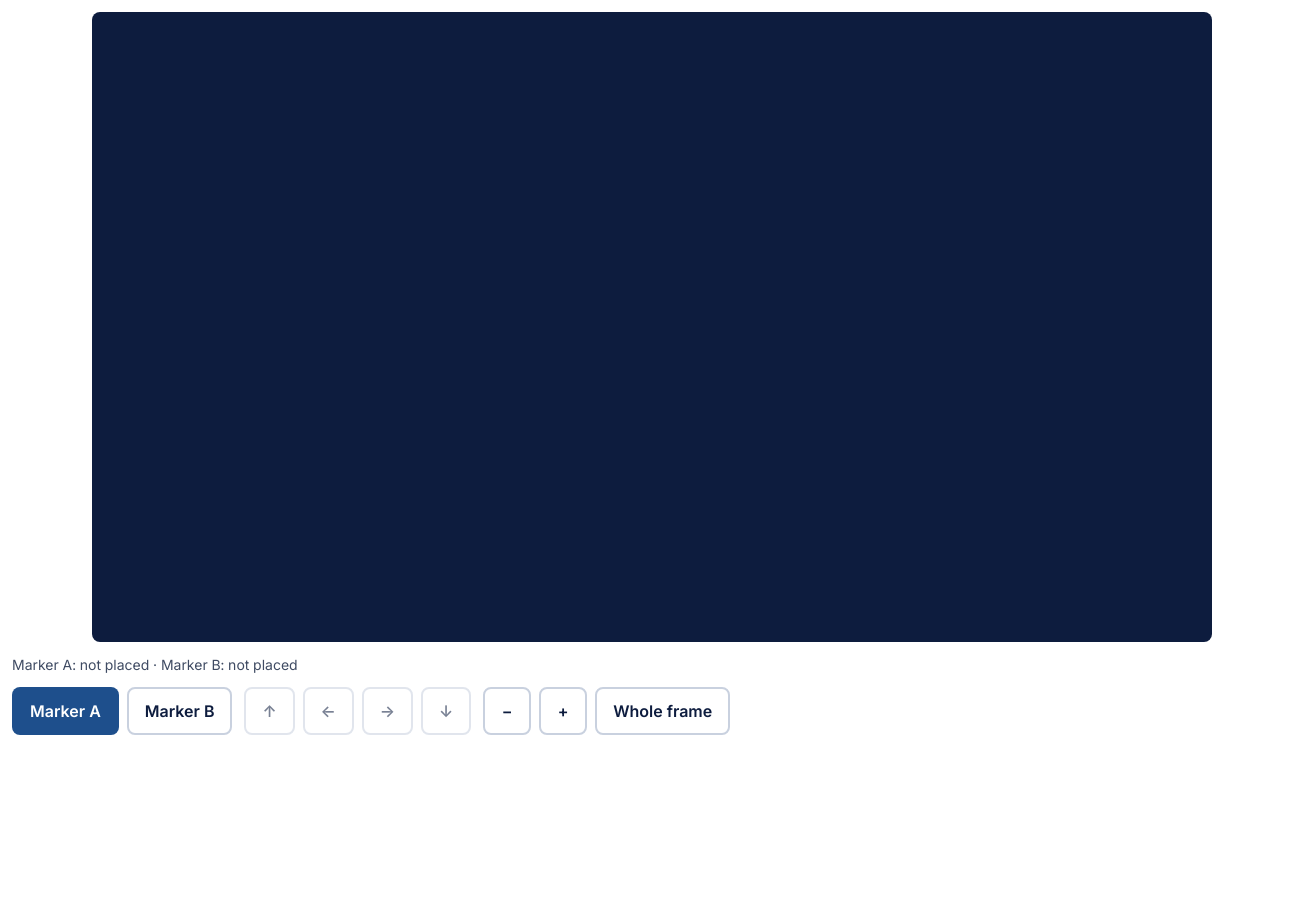
Scenario: CalibrationOverlay › turns taps on the frame into marker positions in frame pixels
Expected: the text "Marker A: not placed · Marker B: not placed" is shown, [12,656,298,673]
Press the mouse on the drawing named "Calibration frame": [652, 327] box [92,12,1212,642]
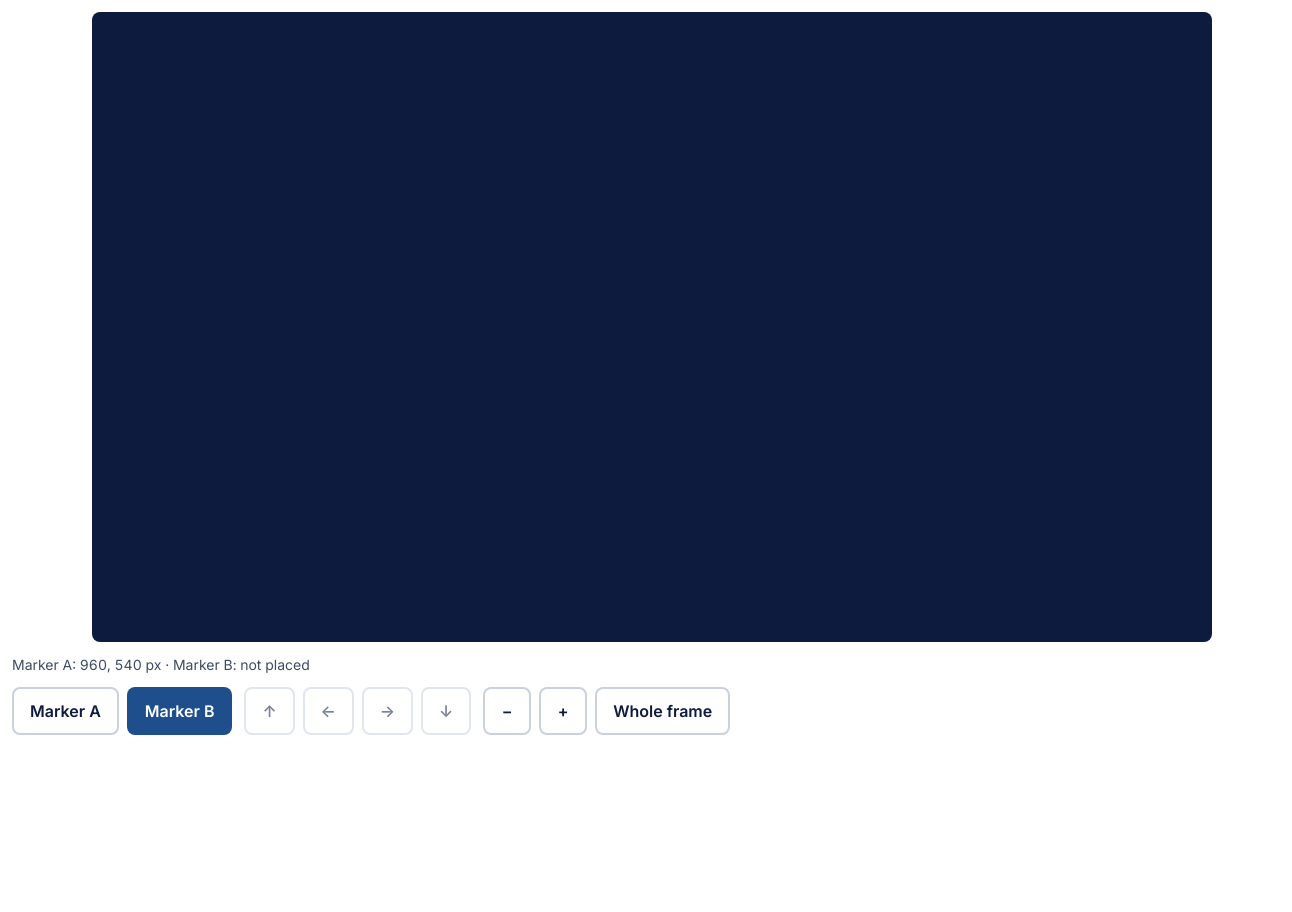
Now the text "Marker A: 960, 540 px · Marker B: not placed" is shown, box [12,656,310,673]
Press the mouse on the drawing named "Calibration frame": [652, 327] box [92,12,1212,642]
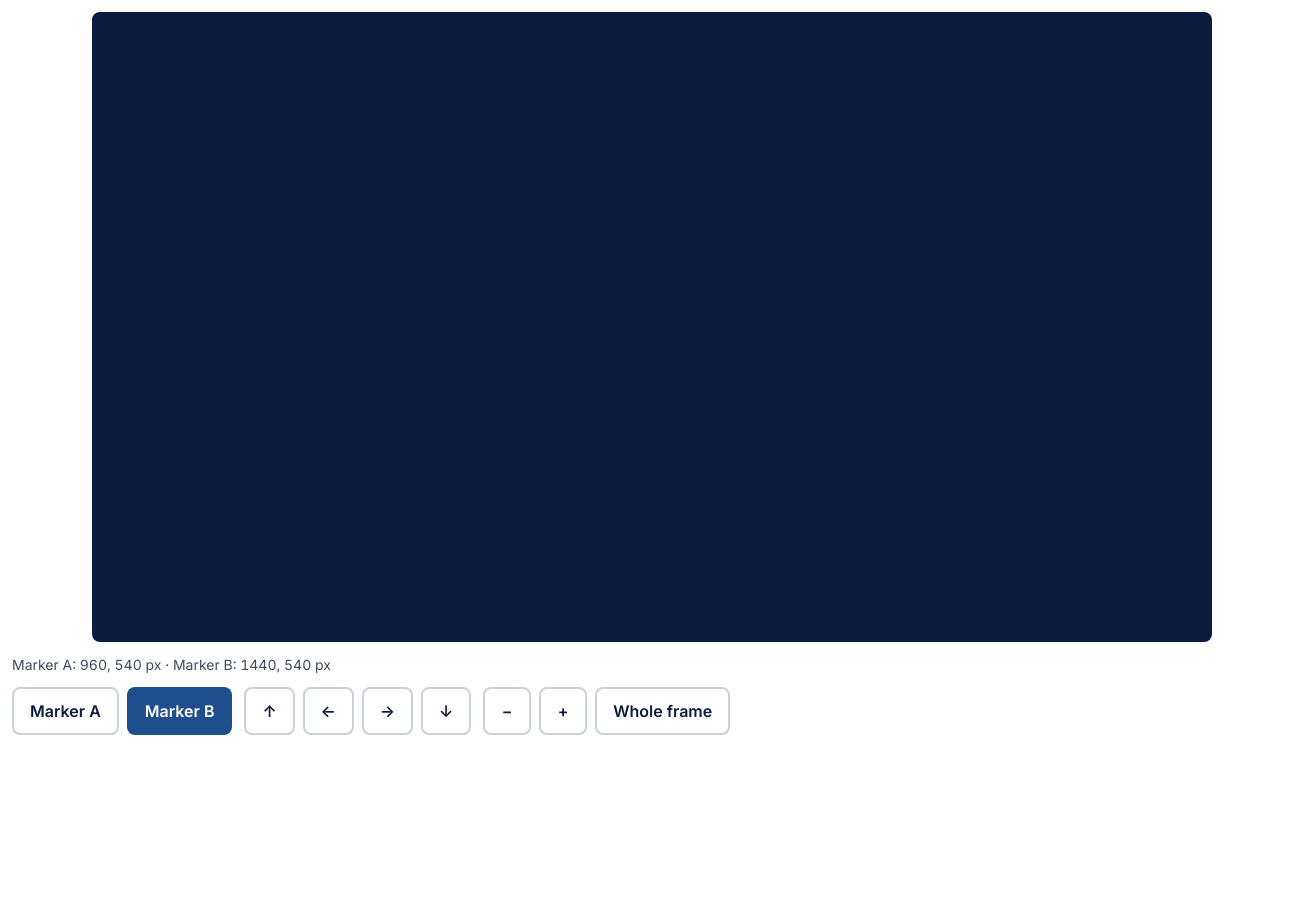
Now the text "Marker A: 960, 540 px · Marker B: 1440, 540 px" is shown, box [12,656,331,673]
Click the button named "Move right": [387, 711] box [362,687,413,735]
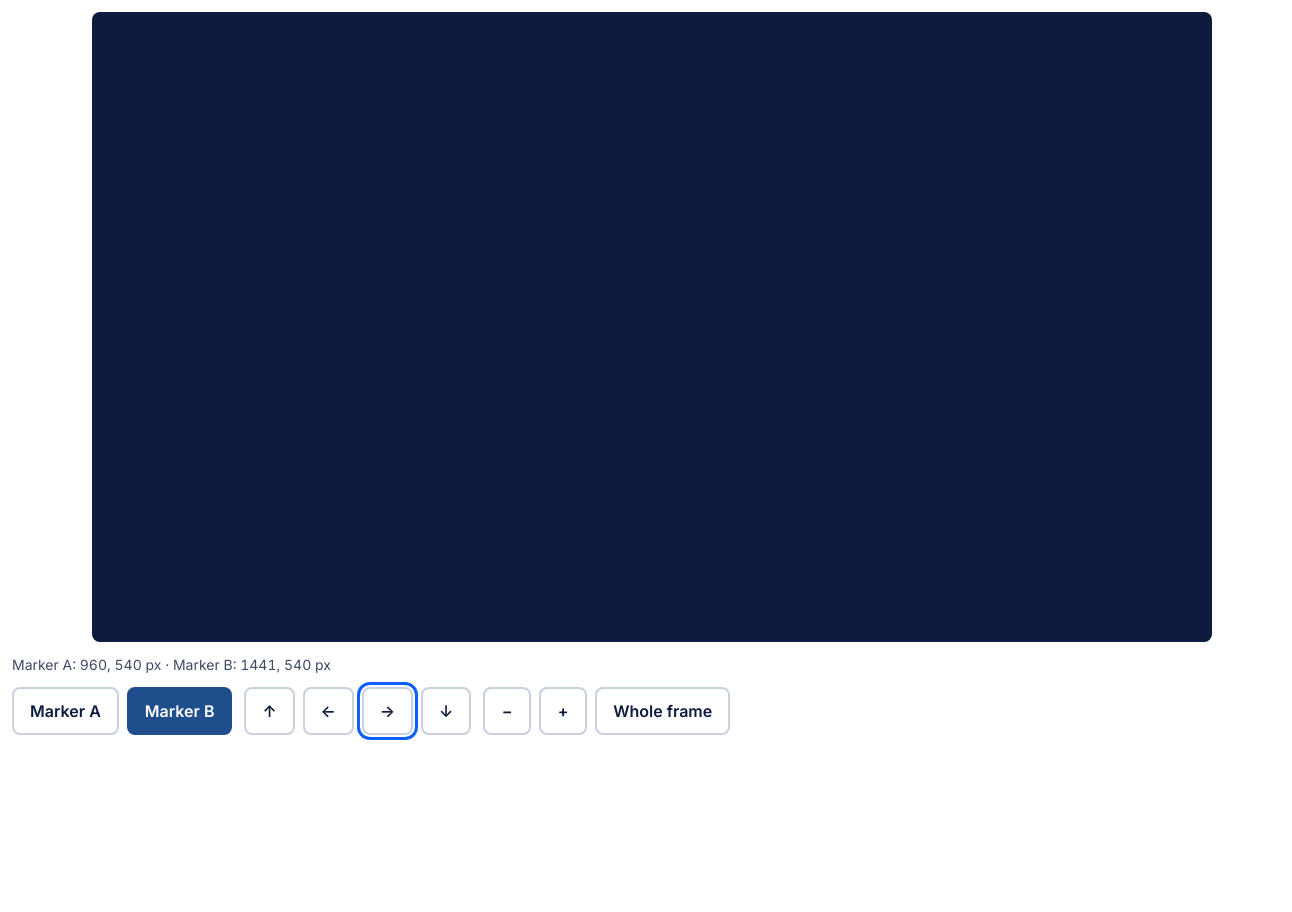
Now the text "Marker A: 960, 540 px · Marker B: 1441, 540 px" is shown, box [12,656,331,673]
Click the button "Marker A": [65, 711] box [12,687,119,735]
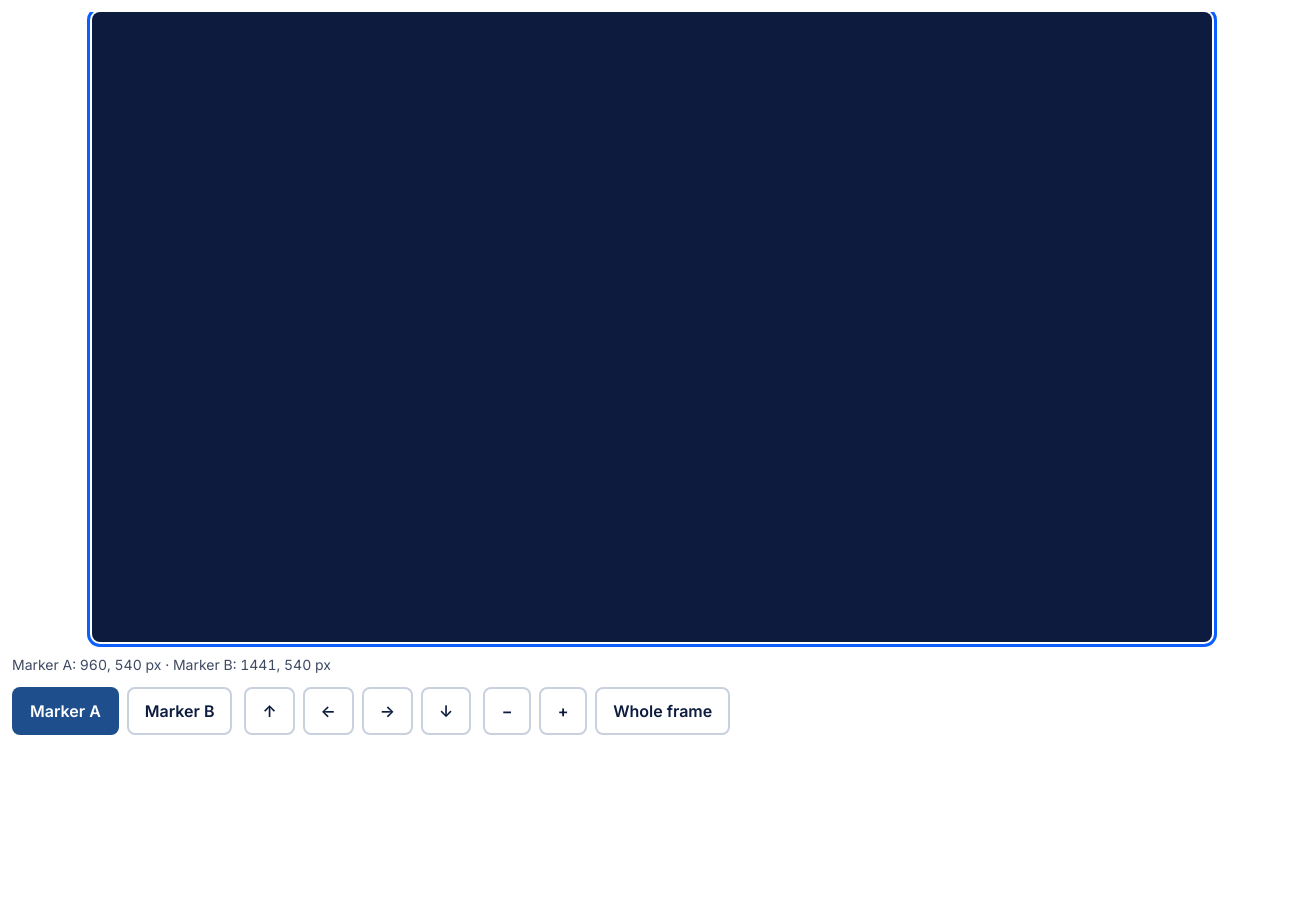
Press Arrowup
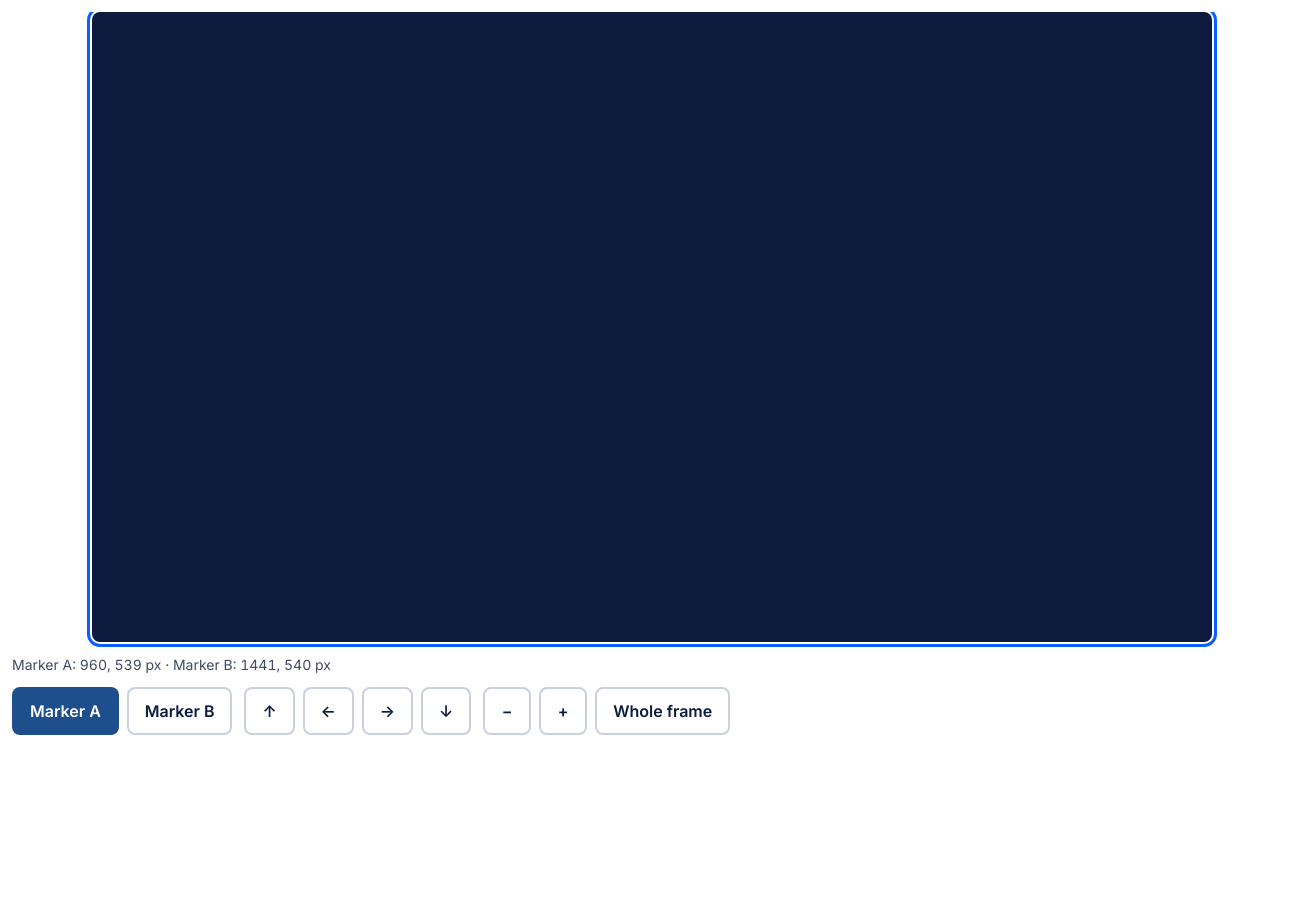
Now the text "Marker A: 960, 539 px · Marker B: 1441, 540 px" is shown, box [12,656,331,673]
